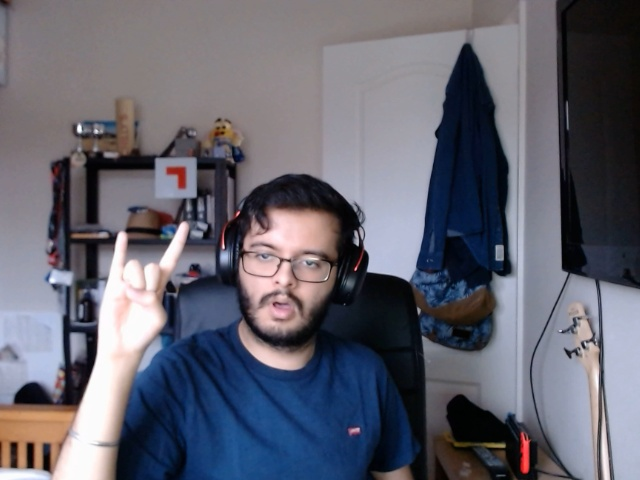Rock on: (69, 209, 203, 372)
